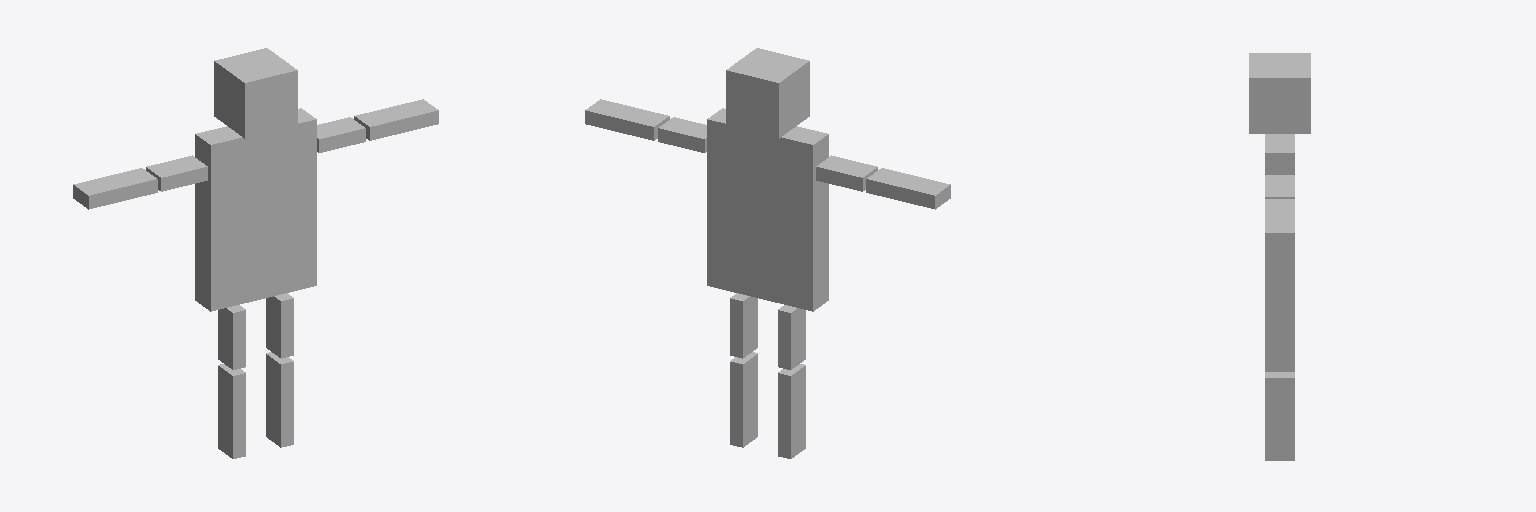
Rendered from human.obj.
The picture shows the model from 3 angles: view 1: azimuth 30°, elevation 25°; view 2: azimuth 150°, elevation 25°; view 3: azimuth 270°, elevation 25°; orthographic projection.
Visible parts, largest first — view 1: pCube1, pCube2, pCube5, pCube4, pCube10, pCube8, pCube6, pCube3, pCube9, pCube7; view 2: pCube1, pCube2, pCube5, pCube4, pCube10, pCube8, pCube6, pCube3, pCube9, pCube7; view 3: pCube2, pCube1, pCube5, pCube6, pCube8, pCube7.
Boxes of the visible parts, <box> form: pCube1: <box>195,108,316,311</box>; pCube2: <box>214,48,297,138</box>; pCube5: <box>266,352,293,447</box>; pCube4: <box>218,364,245,458</box>; pCube10: <box>73,168,157,209</box>; pCube8: <box>354,99,438,140</box>; pCube6: <box>266,293,293,358</box>; pCube3: <box>218,305,245,369</box>; pCube9: <box>146,155,207,191</box>; pCube7: <box>317,117,365,152</box>; pCube1: <box>707,108,828,311</box>; pCube2: <box>726,48,809,138</box>; pCube5: <box>730,352,757,447</box>; pCube4: <box>778,364,805,458</box>; pCube10: <box>866,168,950,209</box>; pCube8: <box>585,99,669,140</box>; pCube6: <box>730,293,757,358</box>; pCube3: <box>778,305,805,369</box>; pCube9: <box>816,155,877,191</box>; pCube7: <box>658,117,706,152</box>; pCube2: <box>1249,53,1310,133</box>; pCube1: <box>1265,134,1294,318</box>; pCube5: <box>1265,372,1294,460</box>; pCube6: <box>1265,319,1294,371</box>; pCube8: <box>1265,199,1294,246</box>; pCube7: <box>1265,175,1294,198</box>.
Size of the model in its own units: 3.3 by 3.43 by 0.5.